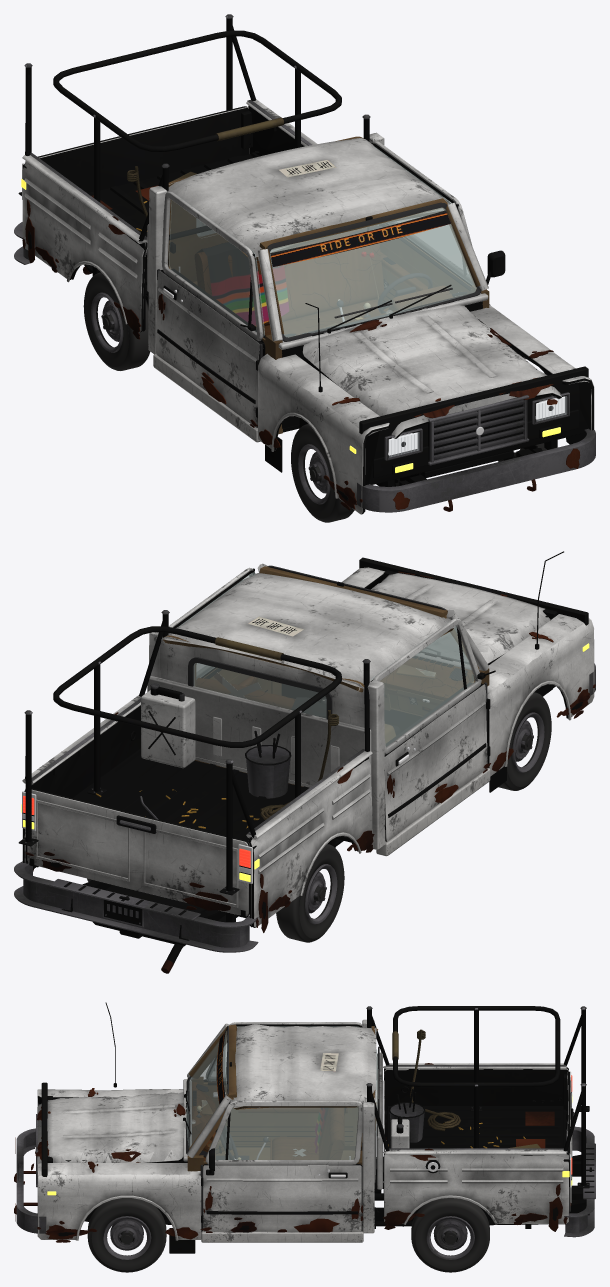
The model's file is truck_t1.glb.
3 views of the same model, one above another, from view 1: azimuth 30°, elevation 25°; view 2: azimuth 150°, elevation 25°; view 3: azimuth 270°, elevation 25° (orthographic). The views are drawn at different scales.
Parts seen in each view (by area): view 1: body, panel_hood, panel_door_R, panel_fender_R, panel_tailgate, panel_bumper_F, panel_door_L, wheel_RR, panel_fender_L, wheel_FR; view 2: body, panel_door_R, panel_tailgate, panel_fender_R, panel_bumper_R, panel_hood, wheel_RR, wheel_FR, panel_door_L, panel_fender_L; view 3: body, panel_door_L, panel_fender_L, panel_hood, wheel_FL, wheel_RL, panel_door_R, panel_bumper_R, panel_bumper_F, panel_fender_R, panel_tailgate.
Part boxes in pixels (x1,y1,x2,y2): body: [18, 14, 588, 511]; panel_hood: [302, 305, 561, 438]; panel_door_R: [156, 191, 265, 427]; panel_fender_R: [249, 353, 389, 514]; panel_tailgate: [37, 106, 263, 192]; panel_bumper_F: [357, 428, 595, 512]; panel_door_L: [373, 141, 505, 304]; wheel_RR: [83, 272, 150, 370]; panel_fender_L: [470, 305, 594, 444]; wheel_FR: [291, 423, 354, 522]; body: [18, 551, 588, 973]; panel_door_R: [371, 618, 495, 841]; panel_tailgate: [25, 788, 249, 917]; panel_fender_R: [483, 614, 595, 792]; panel_bumper_R: [14, 861, 258, 952]; panel_hood: [371, 571, 550, 663]; wheel_RR: [276, 844, 344, 942]; wheel_FR: [498, 692, 551, 790]; panel_door_L: [168, 567, 267, 692]; panel_fender_L: [341, 567, 384, 589]; body: [14, 1002, 589, 1242]; panel_door_L: [201, 1100, 363, 1232]; panel_fender_L: [37, 1161, 212, 1253]; panel_hood: [31, 1092, 186, 1171]; wheel_FL: [87, 1198, 166, 1272]; wheel_RL: [411, 1198, 489, 1272]; panel_door_R: [204, 1022, 363, 1144]; panel_bumper_R: [564, 1126, 595, 1237]; panel_bumper_F: [15, 1128, 46, 1233]; panel_fender_R: [37, 1088, 183, 1106]; panel_tailgate: [532, 1071, 574, 1213].
Bounding box in the file's own units: 2.05 × 1.78 × 4.95.
21 materials, 13 textured.
